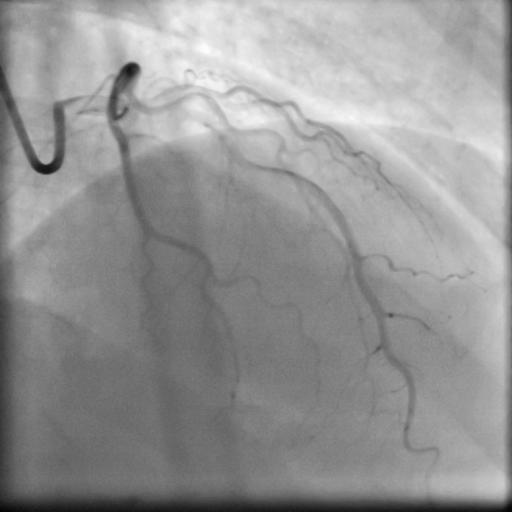Stenosis: (155, 95, 204, 117)
